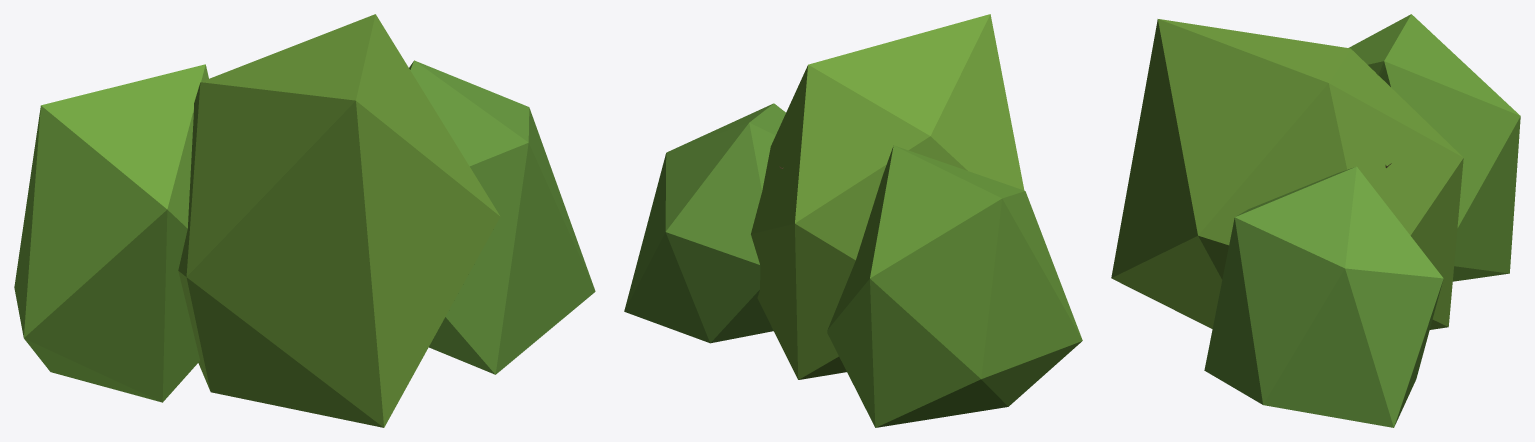
Rendered from shrub_b_lod1.glb.
3 renders of one model, left to right at view 1: azimuth 30°, elevation 25°; view 2: azimuth 150°, elevation 25°; view 3: azimuth 270°, elevation 25°, orthographic. The views are drawn at different scales.
Parts seen in each view (by area): view 1: shrub; view 2: shrub; view 3: shrub.
Part boxes in pixels (x1=…): shrub: x1=14, y1=14, x2=595, y2=427; shrub: x1=624, y1=14, x2=1082, y2=427; shrub: x1=1111, y1=14, x2=1520, y2=427.
Size of the model in its own units: 3.11 by 1.91 by 2.47.
